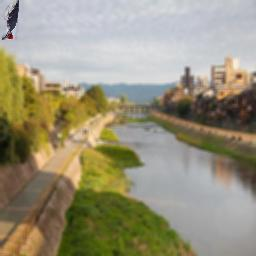Woodpecker: (2, 0, 19, 40)
